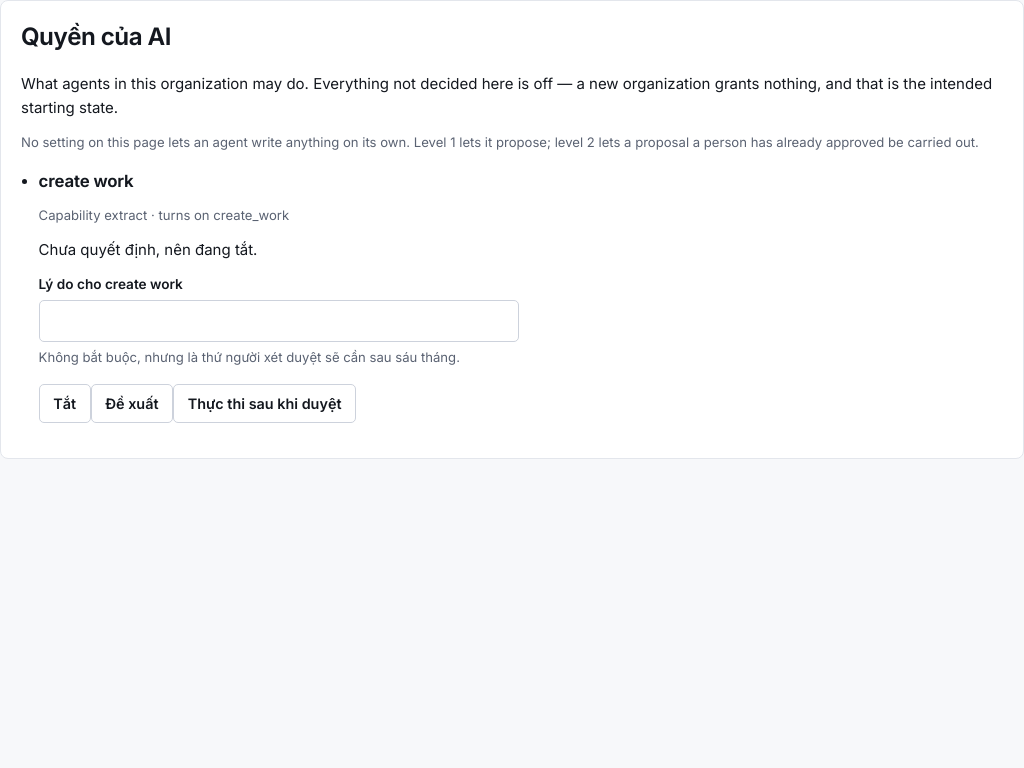
Test: AgentPolicy › reports a refusal as a refusal
This screenshot has width=1024, height=768.
Click the button "Đề xuất". click: [132, 404]
box: [91,384,173,423]
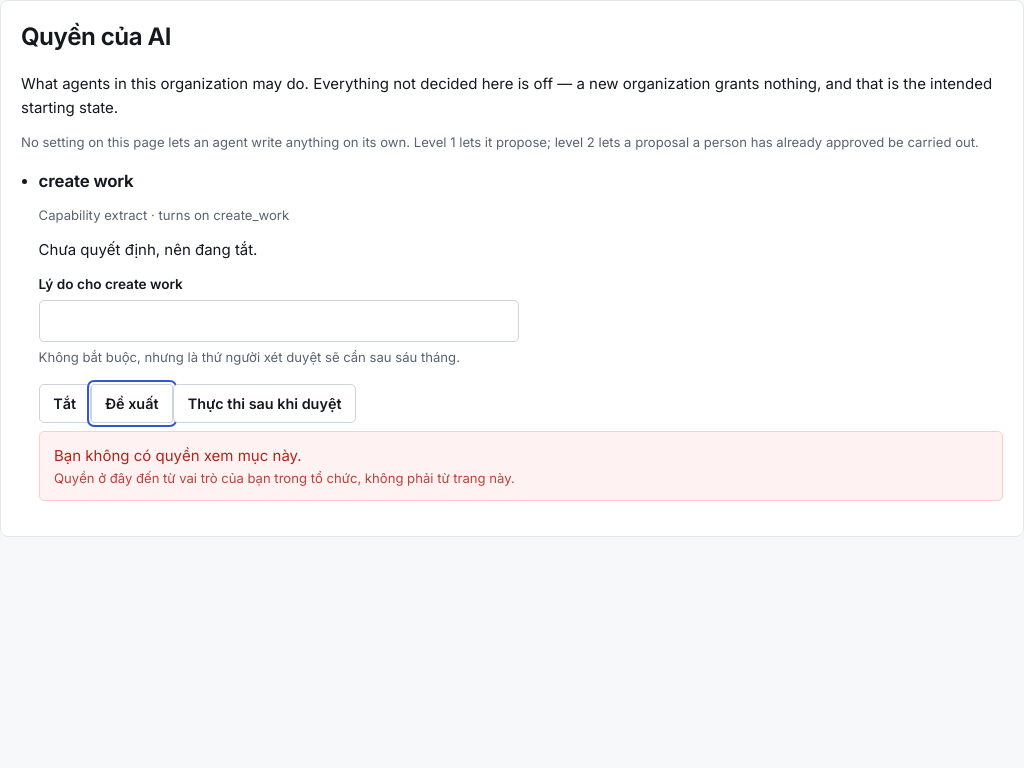
Expected: the message shows "không có quyền", [54,446,302,465]
